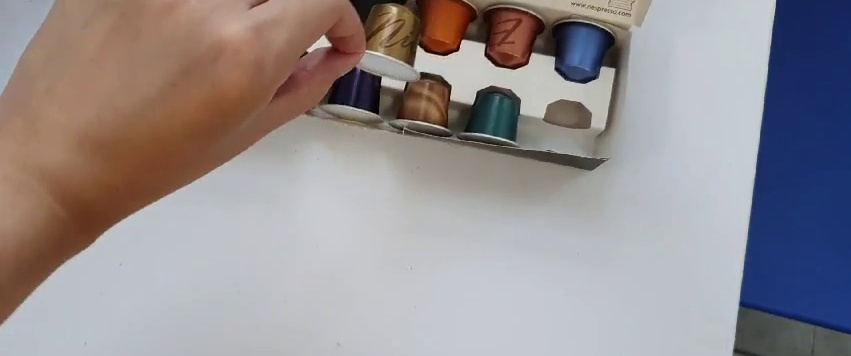capsule_9: (343, 2, 431, 87)
